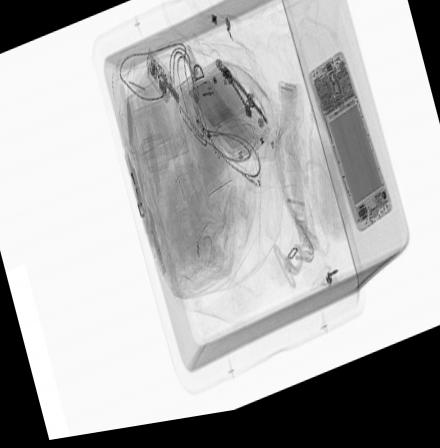Lighter: (122, 147, 148, 224)
